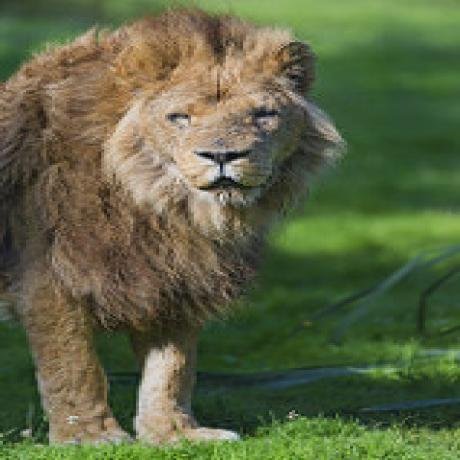Lion: (0, 3, 341, 456)
